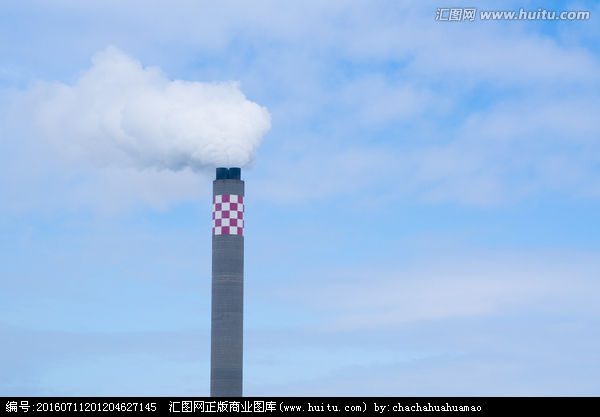dust: (54, 71, 268, 193)
